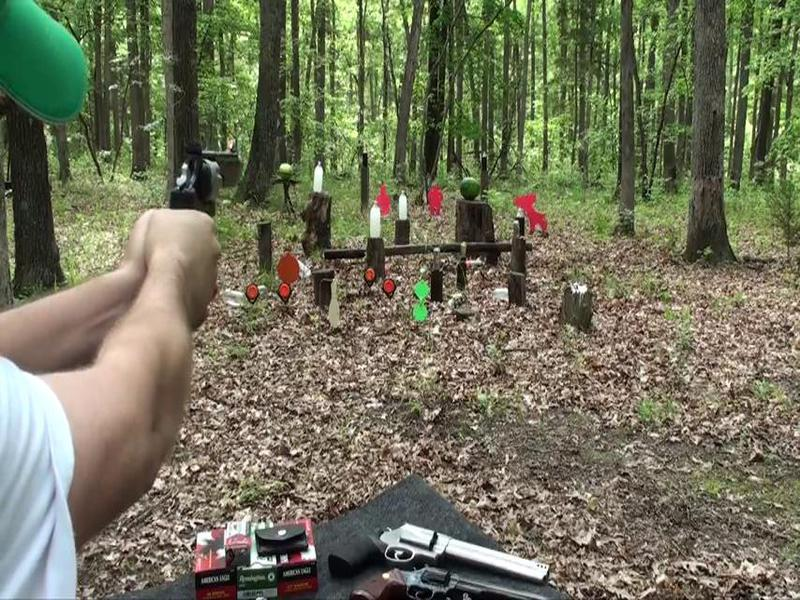Revolver: (155, 129, 256, 249)
